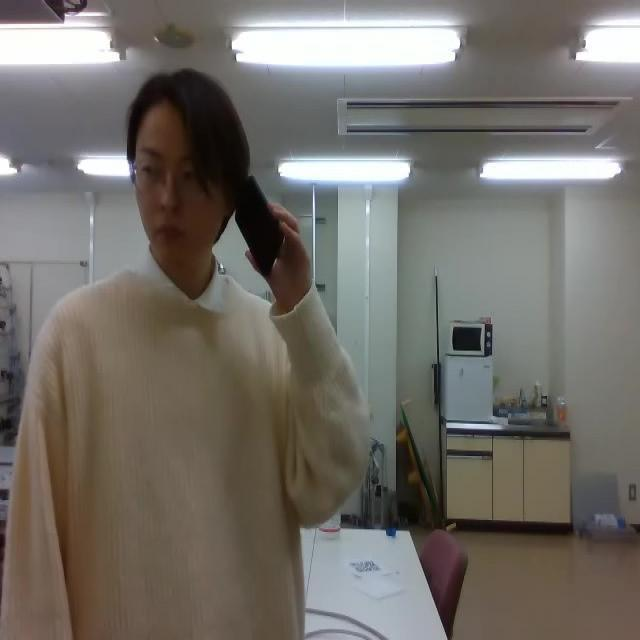Phone: (233, 174, 285, 278)
